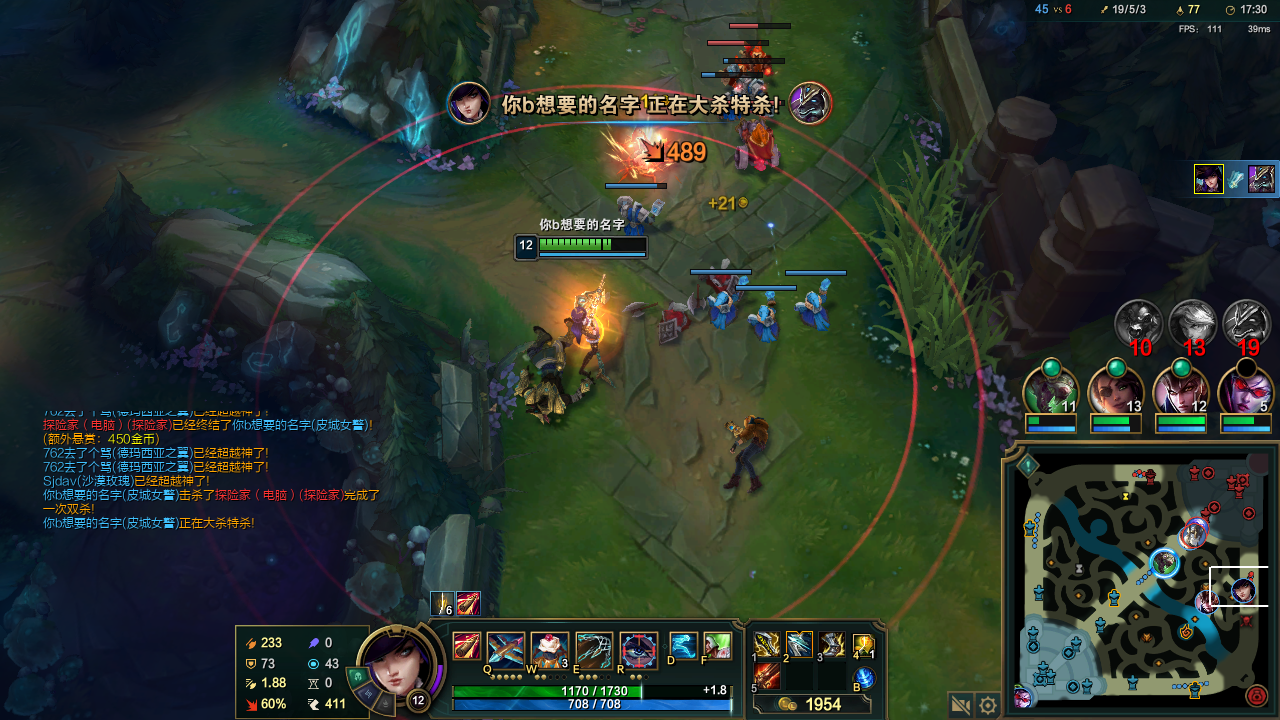DFXB: (731, 124, 782, 180), (747, 50, 778, 81), (727, 61, 743, 77)
WFXB: (742, 303, 785, 343), (619, 196, 664, 234), (801, 286, 835, 323), (706, 289, 740, 326)
